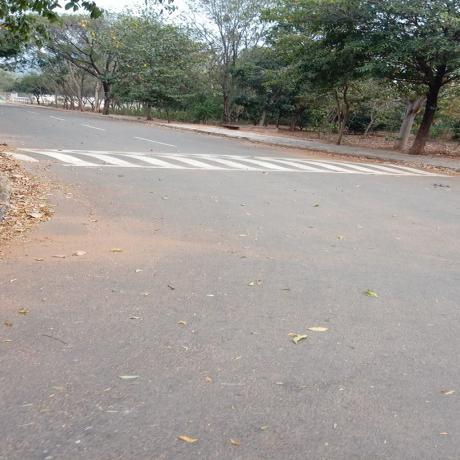Speed Bump: (2, 146, 449, 178)
